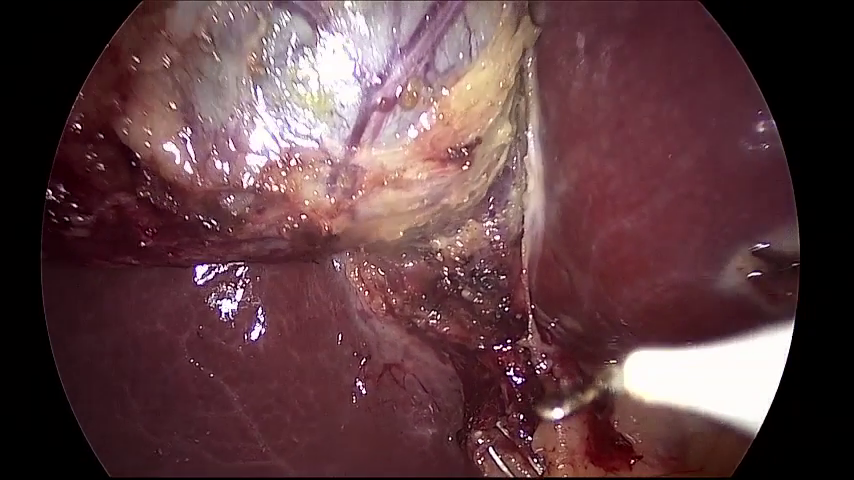lhook: (543, 324, 794, 429)
